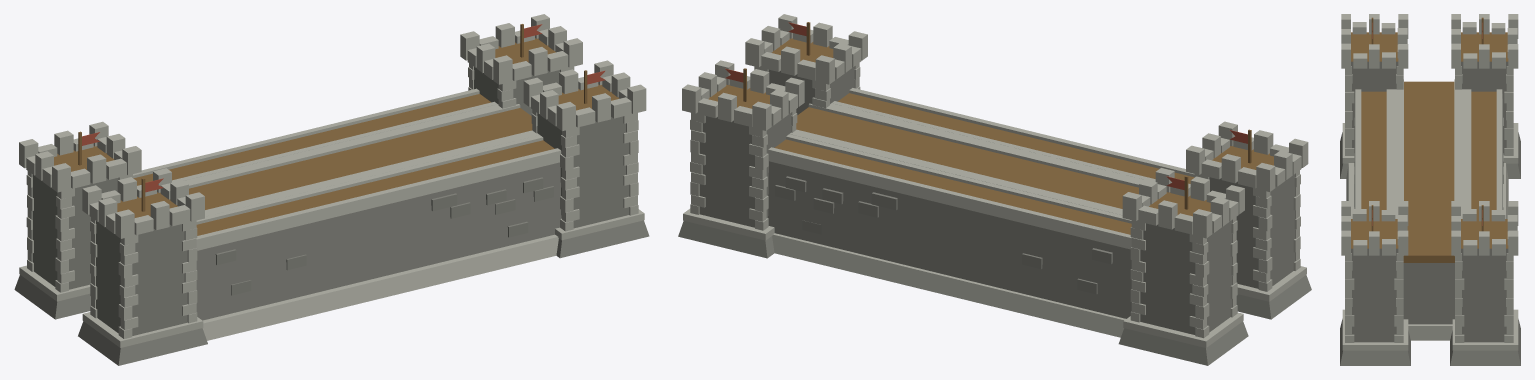
The model's file is road.glb.
3 renders of one model, left to right at view 1: azimuth 30°, elevation 25°; view 2: azimuth 150°, elevation 25°; view 3: azimuth 270°, elevation 25°, orthographic. The views are drawn at different scales.
Parts seen in each view (by area): view 1: WallTowers_SecondAge, WallTowers_SecondAge.001, Wall_SecondAge; view 2: WallTowers_SecondAge.001, WallTowers_SecondAge, Wall_SecondAge; view 3: WallTowers_SecondAge.001, WallTowers_SecondAge, Wall_SecondAge.
Part boxes in pixels (x1,y1,x2,y2): WallTowers_SecondAge: [78, 60, 649, 365]; WallTowers_SecondAge.001: [14, 14, 582, 319]; Wall_SecondAge: [184, 104, 539, 216]; WallTowers_SecondAge.001: [678, 60, 1248, 365]; WallTowers_SecondAge: [745, 14, 1311, 319]; Wall_SecondAge: [790, 103, 1144, 215]; WallTowers_SecondAge.001: [1450, 14, 1520, 365]; WallTowers_SecondAge: [1340, 14, 1410, 365]; Wall_SecondAge: [1392, 79, 1465, 340].
Bounding box in the file's own units: 2.51 × 0.7353 × 0.852.
